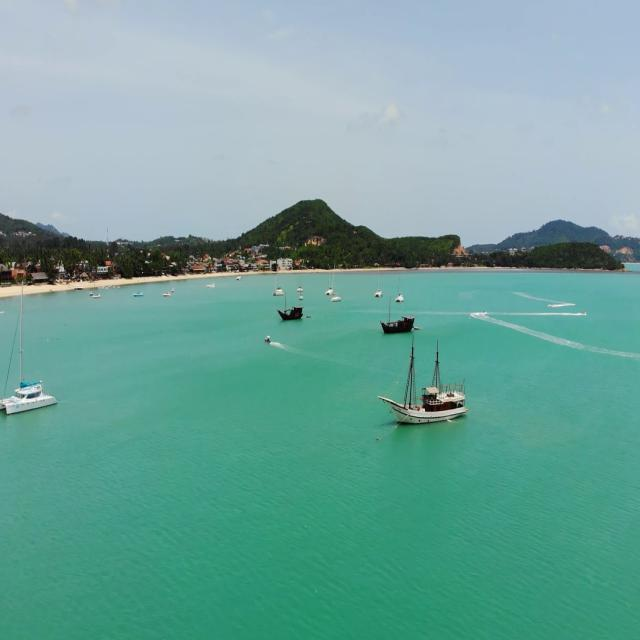fishing boat: (372, 333, 478, 433), (0, 315, 53, 431), (273, 280, 318, 329), (383, 302, 421, 328)
